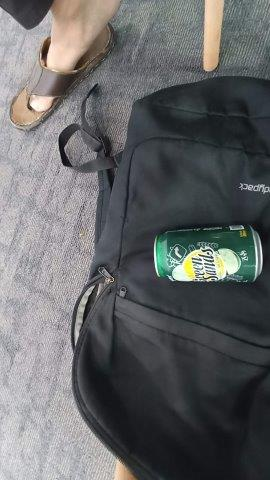kaleng: (154, 225, 263, 283)
